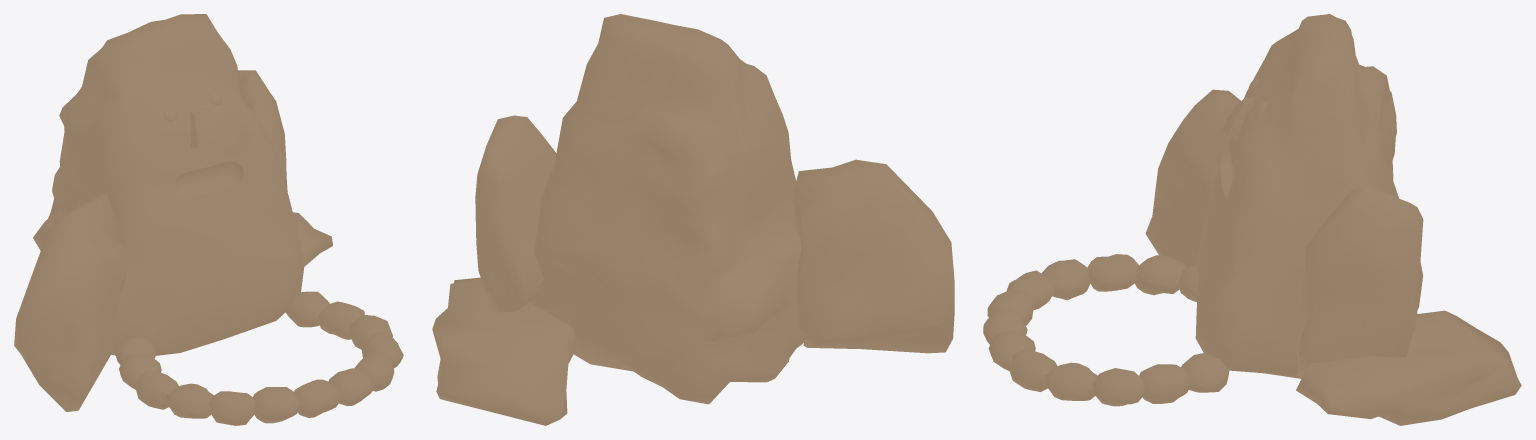
File: 피지샘모델링구획나눔.fbx
3 views of the same model, side by side, from view 1: azimuth 30°, elevation 25°; view 2: azimuth 150°, elevation 25°; view 3: azimuth 270°, elevation 25° (orthographic). The views are drawn at different scales.
Parts seen in each view (by area): view 1: body3, body3_1, Platonic_7, body1_1, body2_1, nose; view 2: body3, body3_1, body2_1, body1_1; view 3: body3, body1_1, Platonic_7, body2_1, body3_1, nose.
Boxes of the visible parts, x1,y1,x2,y2 form: body3: (33, 14, 304, 355); body3_1: (14, 194, 128, 411); Platonic_7: (115, 291, 403, 425); body1_1: (238, 70, 287, 191); body2_1: (292, 212, 332, 266); nose: (190, 107, 219, 147); body3: (529, 14, 805, 404); body3_1: (793, 159, 954, 353); body2_1: (432, 277, 575, 425); body1_1: (475, 115, 556, 312); body3: (1195, 14, 1398, 378); body1_1: (1297, 186, 1423, 377); Platonic_7: (983, 254, 1229, 406); body2_1: (1296, 310, 1521, 425); body3_1: (1145, 89, 1240, 267); nose: (1223, 96, 1253, 140).
Bounding box in the file's own units: 837 × 632 × 958.
